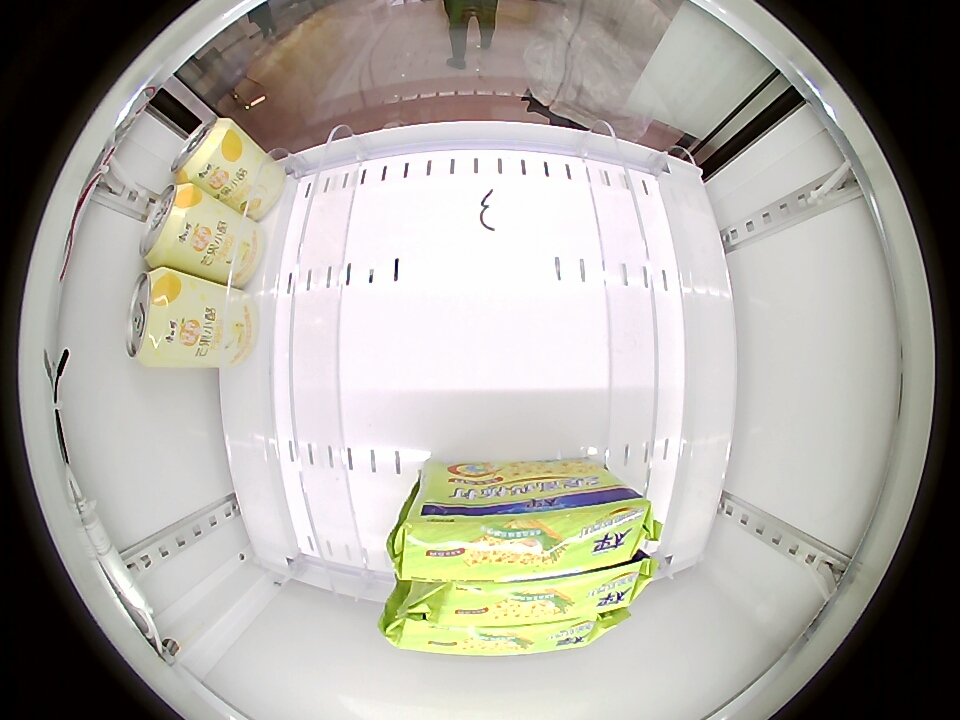mangguoxiaolao: (126, 267, 184, 365), (139, 182, 201, 267), (170, 116, 237, 183)
taipingshuda: (396, 481, 651, 583), (405, 564, 644, 624), (381, 609, 620, 656)
